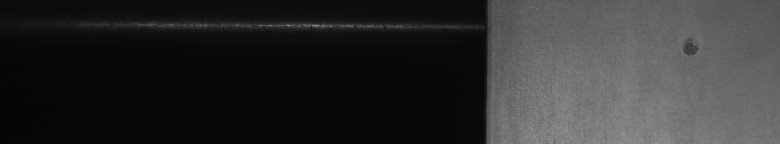fi: (678, 32, 703, 63)
